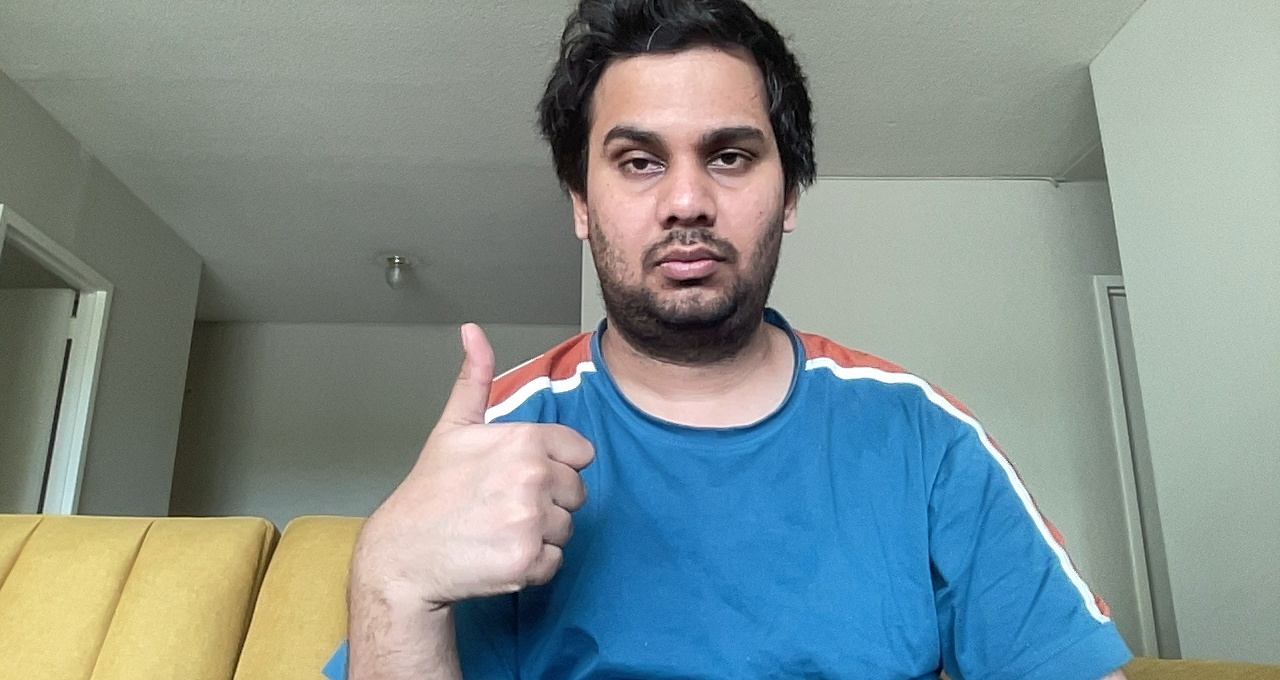thumbsup: (349, 320, 624, 607)
